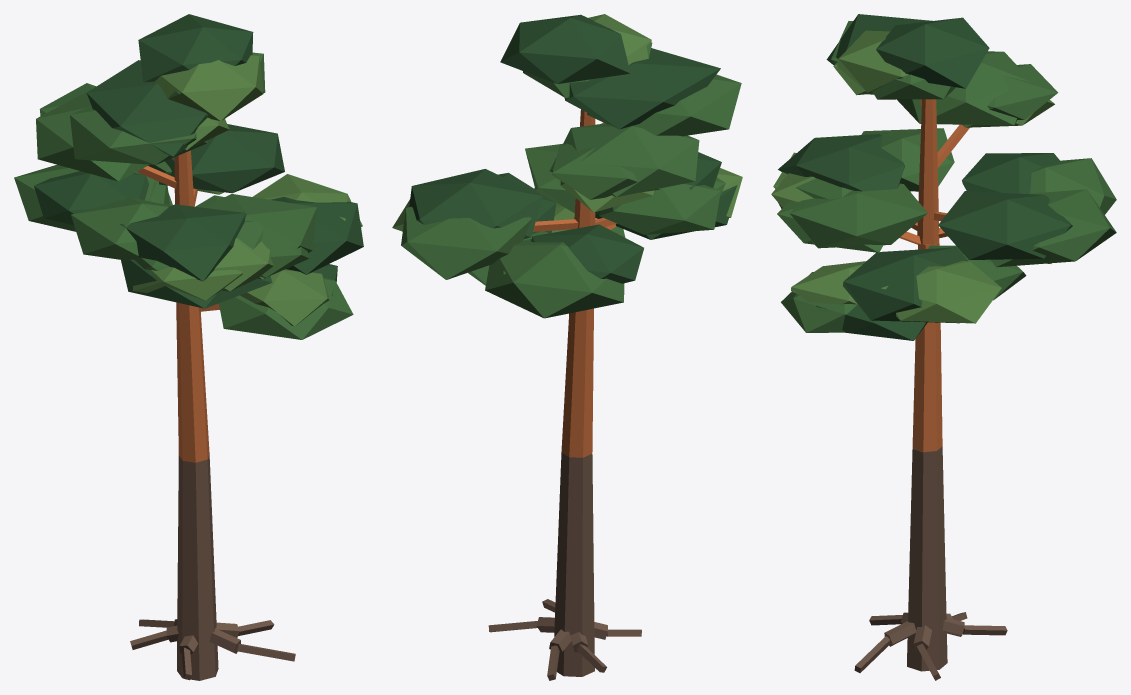
File: tall_3.glb
3 renders of one model, left to right at view 1: azimuth 30°, elevation 25°; view 2: azimuth 150°, elevation 25°; view 3: azimuth 270°, elevation 25°, orthographic.
Parts seen in each view (by area): view 1: tall_3; view 2: tall_3; view 3: tall_3.
Boxes of the visible parts, x1=… form: tall_3: x1=14, y1=14, x2=363, y2=680; tall_3: x1=392, y1=14, x2=742, y2=680; tall_3: x1=771, y1=14, x2=1116, y2=680.
Size of the model in its own units: 6.7 by 13.92 by 6.8.
